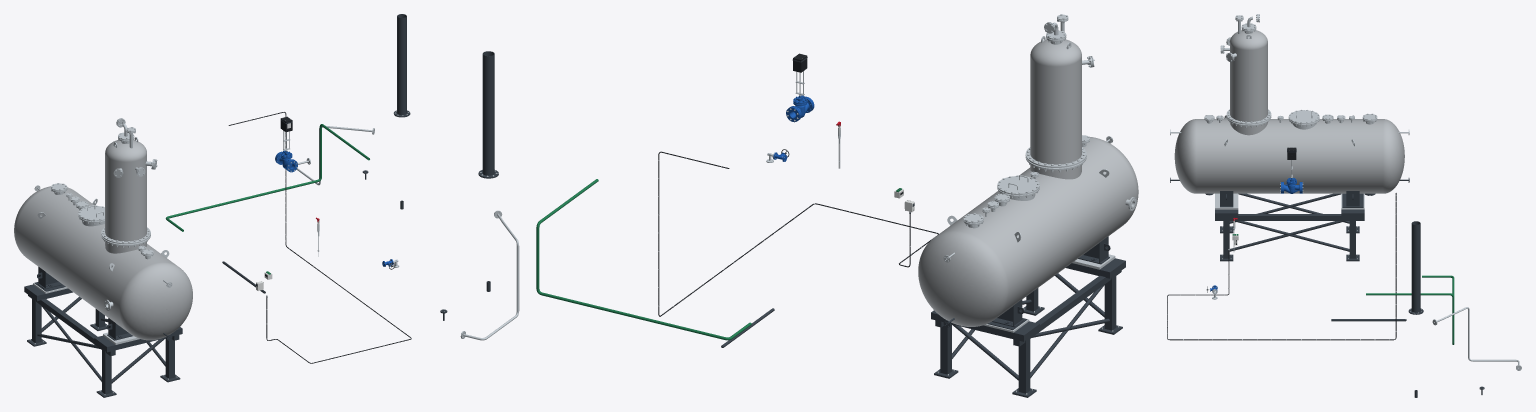
3 renders of one model, left to right at view 1: azimuth 30°, elevation 25°; view 2: azimuth 150°, elevation 25°; view 3: azimuth 270°, elevation 25°, orthographic. The views are drawn at different scales.
Parts seen in each view (by area): view 1: deaerator CAD solid 56, deaerator_support / dark, deaerator CAD solid 257, bdv_vent / dark, to_economizer / green, mod_eco_drive_cable / black; view 2: deaerator CAD solid 56, deaerator_support / dark, deaerator CAD solid 257, bdv_vent / dark, to_economizer / green, mod_eco_drive_cable / black, trap_gap_to_bdv / steel, deaerator CAD solid 408; view 3: deaerator CAD solid 56, deaerator_support / dark, deaerator CAD solid 257, mod_eco_drive_cable / black, bdv_vent / dark, to_economizer / green, trap_gap_to_bdv / steel, deaerator_support / steel, deaerator CAD solid 408.
Part boxes in pixels (<box>): deaerator CAD solid 56: <box>14,186,192,340</box>; deaerator_support / dark: <box>24,284,182,397</box>; deaerator CAD solid 257: <box>105,140,146,241</box>; bdv_vent / dark: <box>393,14,410,117</box>; to_economizer / green: <box>165,124,369,231</box>; mod_eco_drive_cable / black: <box>228,112,411,363</box>; deaerator CAD solid 56: <box>918,136,1138,326</box>; deaerator_support / dark: <box>931,258,1125,397</box>; deaerator CAD solid 257: <box>1030,39,1081,164</box>; bdv_vent / dark: <box>478,51,498,178</box>; to_economizer / green: <box>536,179,751,340</box>; mod_eco_drive_cable / black: <box>658,151,938,316</box>; trap_gap_to_bdv / steel: <box>460,210,519,340</box>; deaerator CAD solid 408: <box>997,176,1039,194</box>; deaerator CAD solid 56: <box>1174,119,1404,193</box>; deaerator_support / dark: <box>1215,193,1364,261</box>; deaerator CAD solid 257: <box>1230,30,1267,121</box>; mod_eco_drive_cable / black: <box>1167,193,1396,340</box>; bdv_vent / dark: <box>1408,221,1423,314</box>; to_economizer / green: <box>1366,275,1454,344</box>; trap_gap_to_bdv / steel: <box>1432,307,1521,370</box>; deaerator_support / steel: <box>1215,193,1364,259</box>; deaerator CAD solid 408: <box>1288,110,1319,123</box>.
Size of the model in its own units: 8.25 by 4.82 by 6.74.
